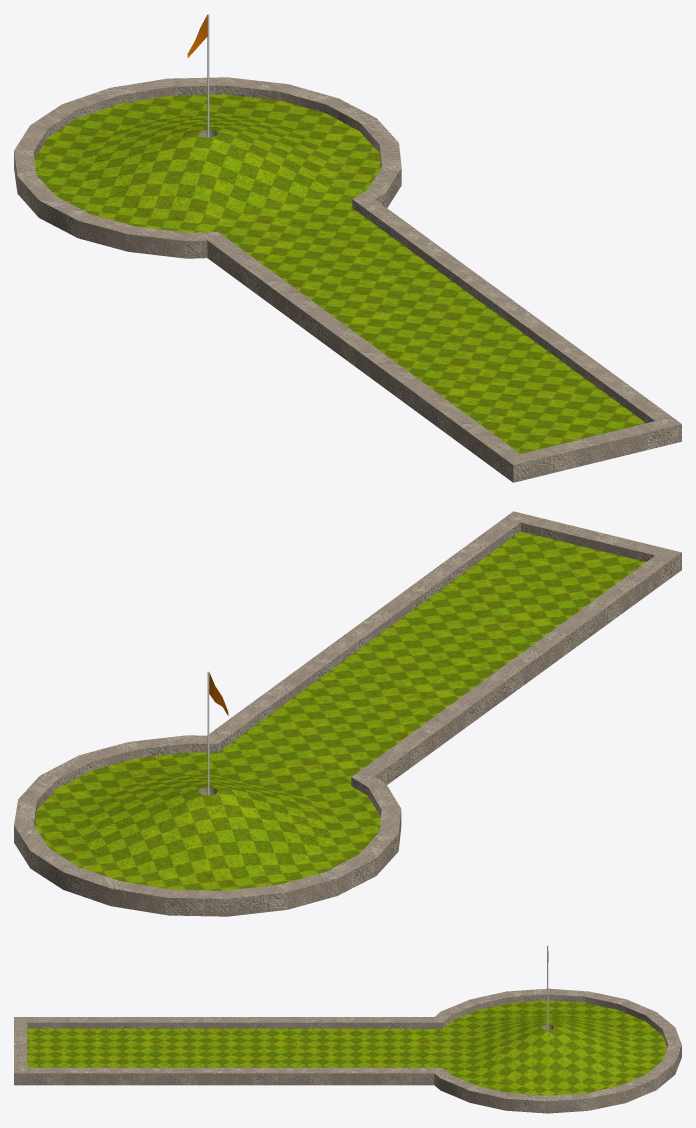
Rendered from course4_hole10.fbx.
3 views of the same model, one above another, from view 1: azimuth 30°, elevation 25°; view 2: azimuth 150°, elevation 25°; view 3: azimuth 270°, elevation 25° (orthographic). The views are drawn at different scales.
Parts seen in each view (by area): view 1: course4_hole10_ground, course4_hole10_walls; view 2: course4_hole10_ground, course4_hole10_walls, course4_hole10_flag; view 3: course4_hole10_ground, course4_hole10_walls.
Boxes of the visible parts, <box> form: course4_hole10_ground: <box>34,94,645,453</box>; course4_hole10_walls: <box>14,77,681,482</box>; course4_hole10_ground: <box>34,531,645,890</box>; course4_hole10_walls: <box>14,511,681,916</box>; course4_hole10_flag: <box>207,671,228,795</box>; course4_hole10_ground: <box>27,1000,667,1095</box>; course4_hole10_walls: <box>14,988,681,1113</box>.
Size of the model in its own units: 200 by 92.14 by 500.
